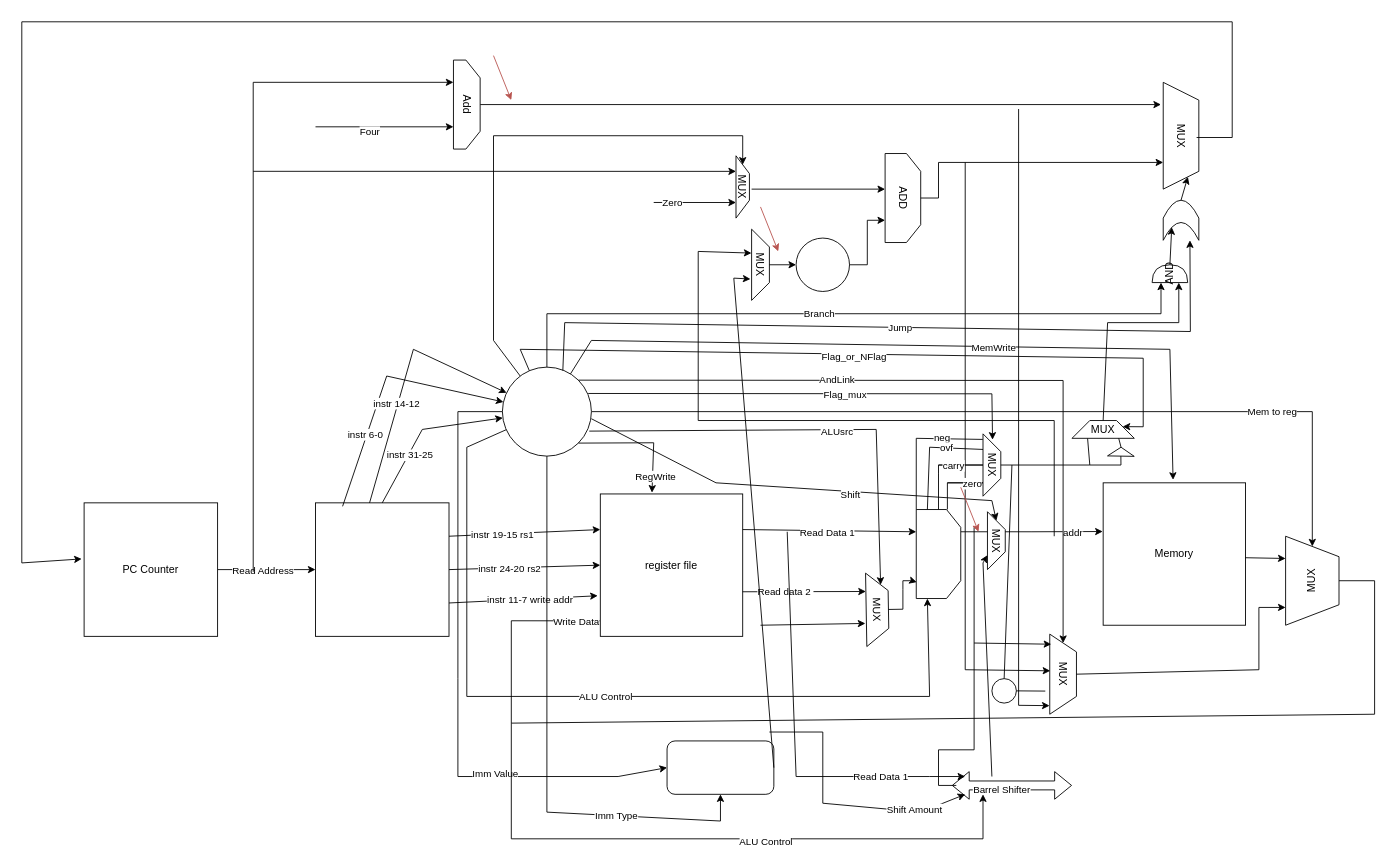
The diagram is 1397 pixels wide and 862 high, and some of its shapes have lost their labels. The centre of each missing label's shape, as x and y in pixels:
"ALU" goes at (938,554).
"Control Unit" goes at (546,411).
"Immediate Generation" goes at (720,767).
"Instruction memory" goes at (382,569).
"OR" goes at (1180,219).
"Shift left 2" goes at (822,264).
"zero ex." goes at (1003,690).
